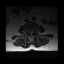CCS_normal: (30, 30, 32, 37)
LFS_stenosis: (33, 29, 35, 34)
LLS_stenosis: (32, 30, 33, 35)
RFS_stenosis: (27, 30, 29, 34)
RLS_stenosis: (29, 30, 30, 35)
